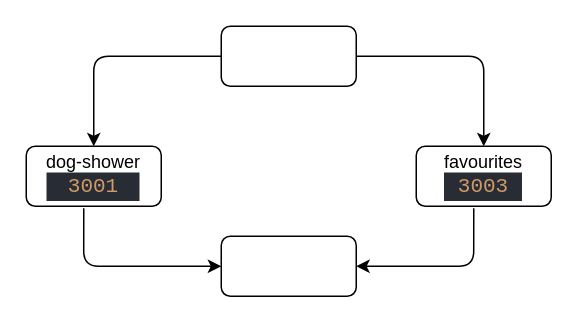
The diagram is 578 pixels wide and 323 high, and some of its shapes have lost their labels. Here are the shapes that lost their labels. From the top down, the centre of each, then its label:
At [288,55]: "home-app 3000".
At [288,265]: "store 3002".
